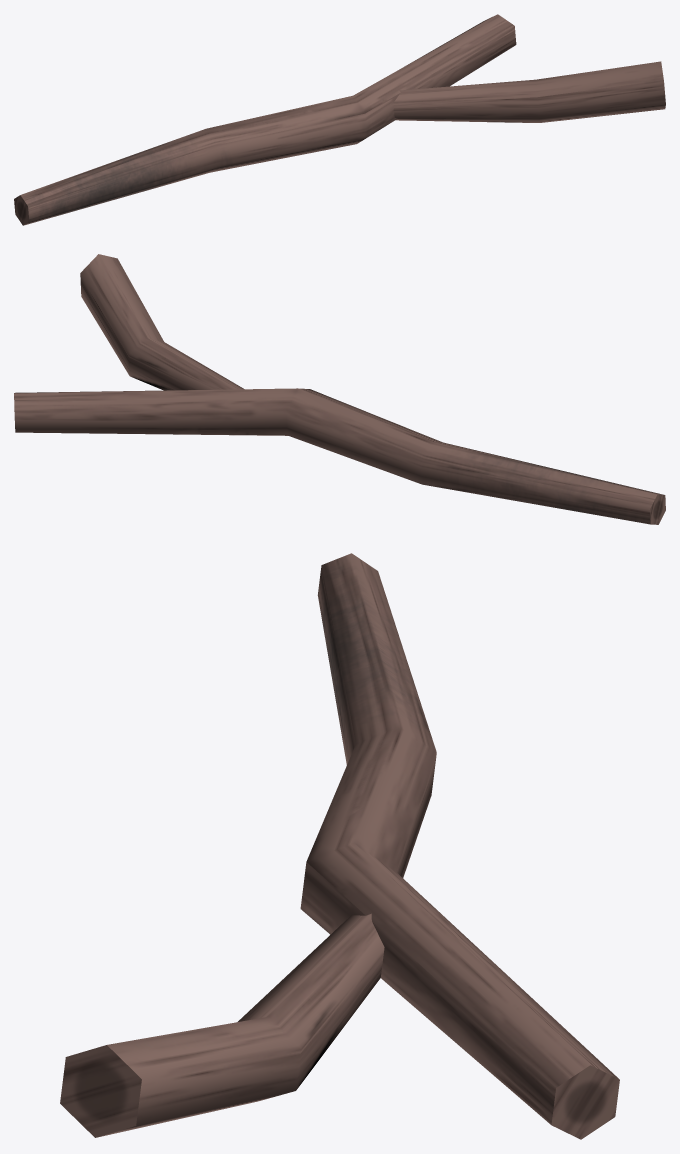
Rendered from BranchA.FBX.
The picture shows the model from 3 angles, top to bottom: view 1: azimuth 30°, elevation 25°; view 2: azimuth 150°, elevation 25°; view 3: azimuth 270°, elevation 25°; orthographic projection. The views are drawn at different scales.
Parts seen in each view (by area): view 1: BranchA; view 2: BranchA; view 3: BranchA.
Boxes of the visible parts, bbox=[...] form: BranchA: bbox=[14, 14, 665, 225]; BranchA: bbox=[14, 254, 665, 524]; BranchA: bbox=[60, 553, 619, 1139].
Size of the model in its own units: 118 by 13.34 by 48.44.
